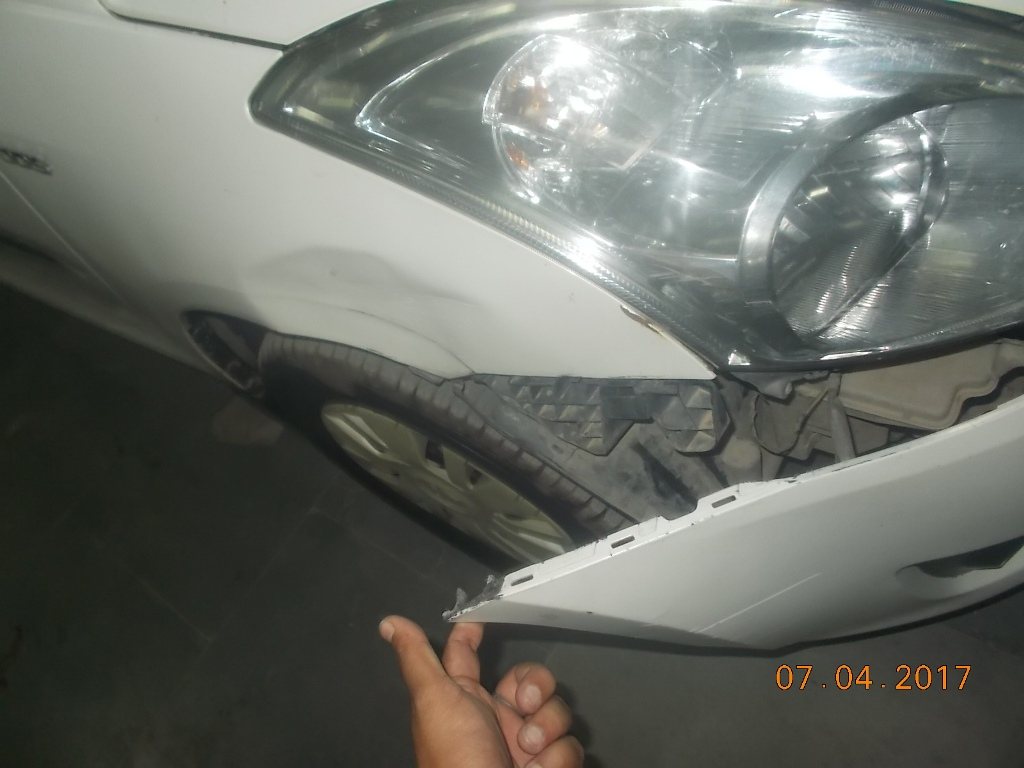Dent: (249, 232, 419, 340)
Dislocation: (426, 341, 905, 596)
